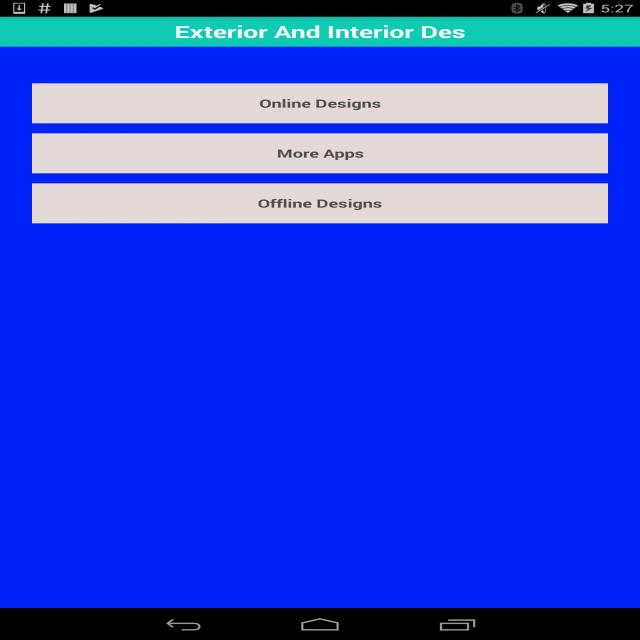button: (33, 83, 607, 124), (33, 182, 607, 222), (33, 134, 606, 174)
heading: (172, 22, 468, 42)
